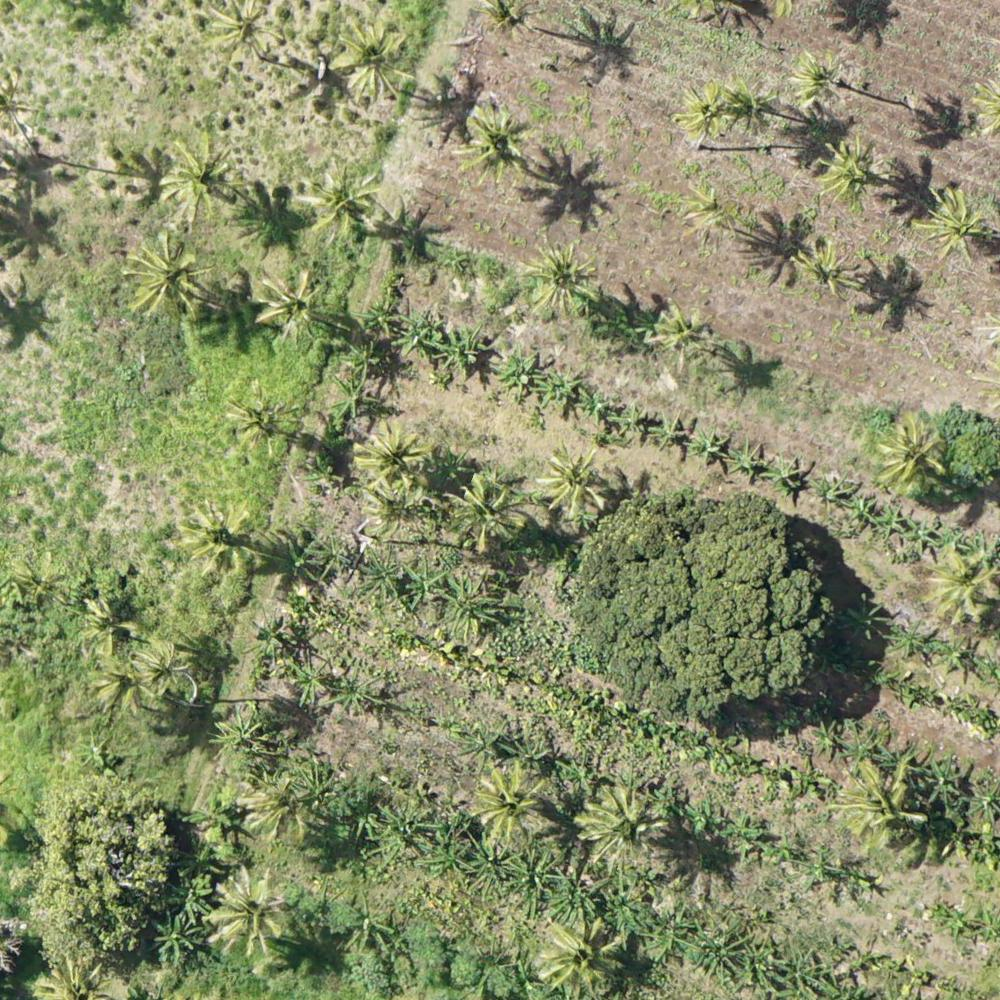Palm: (119, 233, 215, 322), (533, 912, 630, 993), (578, 778, 663, 868), (917, 185, 999, 273), (833, 760, 923, 839), (453, 106, 538, 186), (164, 138, 249, 215), (236, 774, 314, 855), (475, 758, 556, 836), (214, 871, 289, 954), (350, 419, 430, 496), (871, 413, 948, 491), (919, 549, 998, 625), (338, 23, 414, 101), (179, 501, 258, 576), (251, 269, 334, 340), (298, 165, 378, 236), (451, 474, 522, 554), (221, 384, 293, 462), (199, 1, 282, 68), (538, 443, 611, 516), (529, 246, 602, 317), (788, 238, 859, 302), (820, 142, 883, 212), (88, 658, 152, 723), (726, 73, 782, 139), (79, 597, 140, 655), (792, 46, 848, 109), (678, 81, 734, 144), (656, 300, 714, 359), (136, 645, 193, 696)
